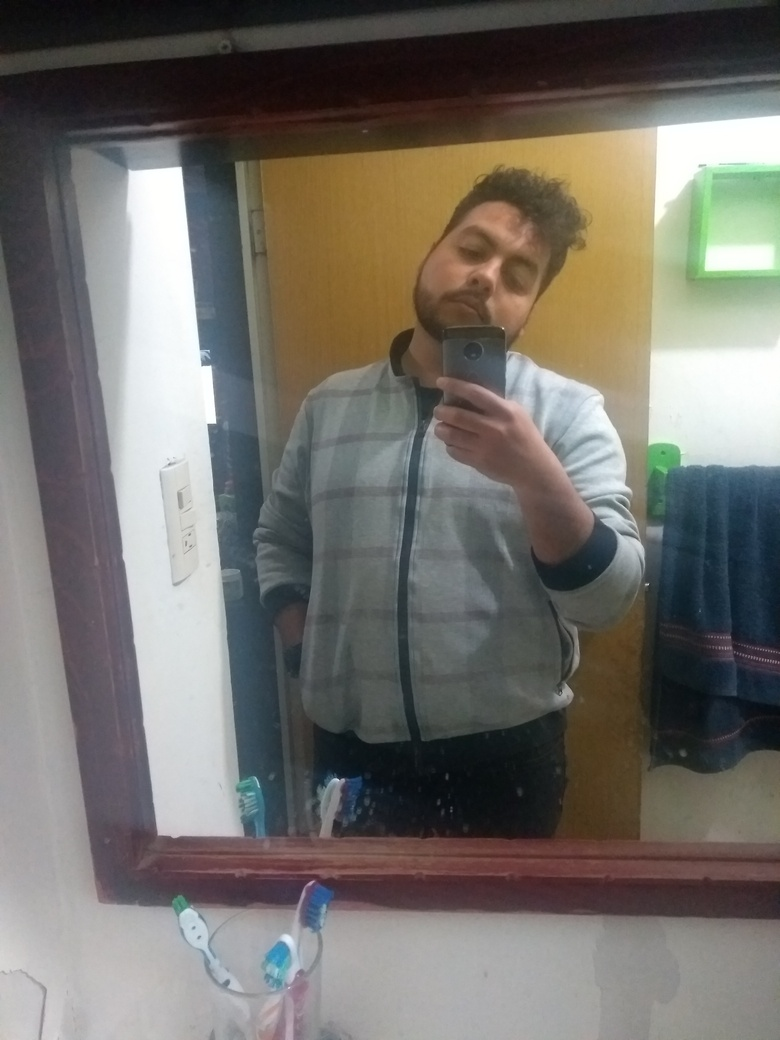Yoshi: (398, 139, 612, 371)
